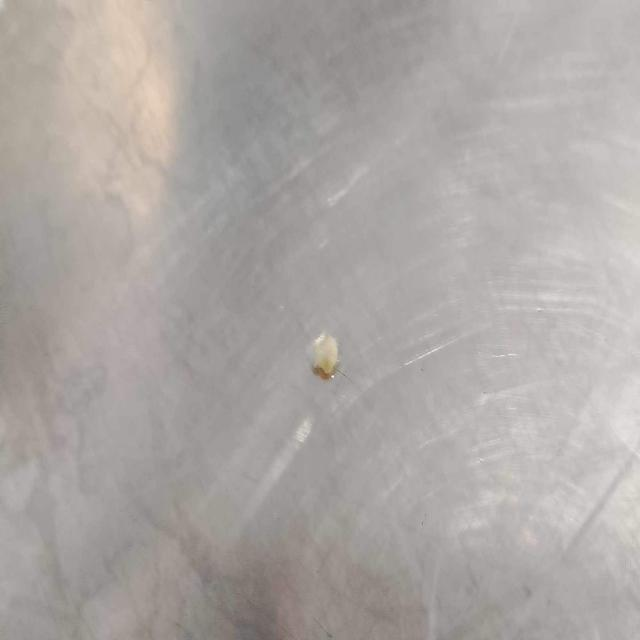Infectious: (311, 330, 339, 378)
Pathological: (2, 3, 636, 636)
